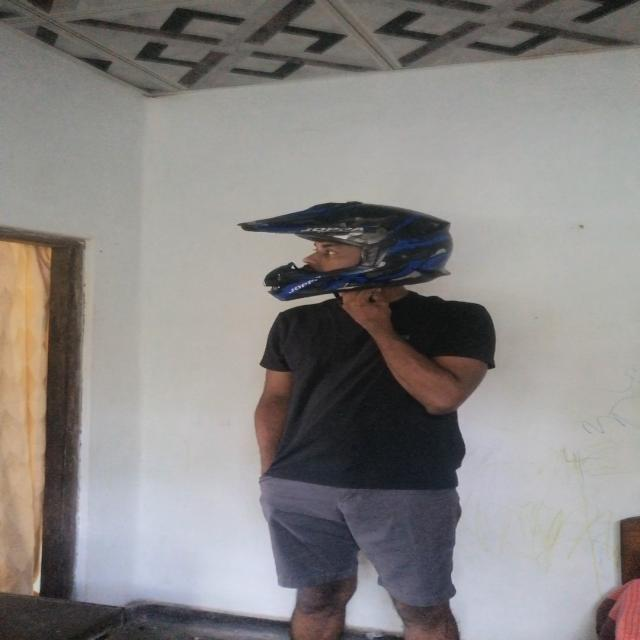Helmet_Wearer: (225, 196, 472, 322)
Person: (256, 196, 494, 640)
